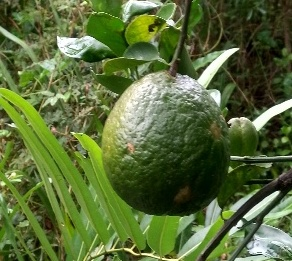Cam: (100, 68, 230, 216)
